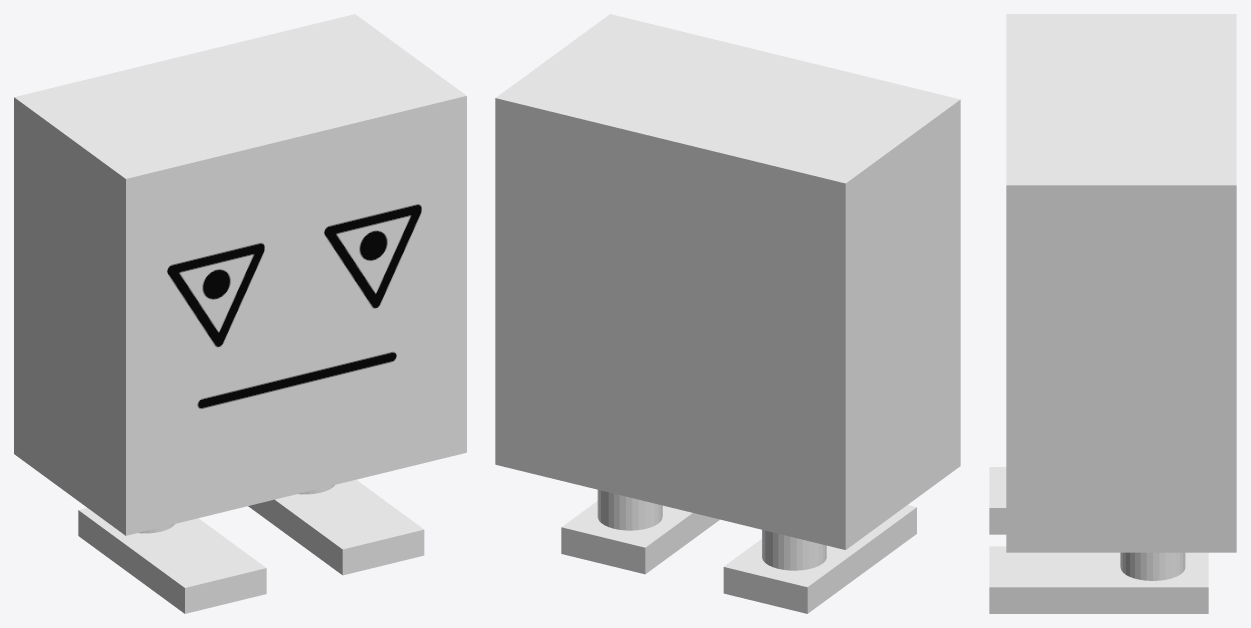
The model's file is wallEnemy.obj.
The picture shows the model from 3 angles, left to right: view 1: azimuth 30°, elevation 25°; view 2: azimuth 150°, elevation 25°; view 3: azimuth 270°, elevation 25°; orthographic projection. The views are drawn at different scales.
Visible parts, largest first — view 1: 立方体, 立方体.002, 立方体.001; view 2: 立方体, 立方体.002, 立方体.001, 円柱, 円柱.001; view 3: 立方体, 立方体.001, 円柱, 立方体.002.
Part boxes in pixels (<box>): 立方体: <box>14,14,466,535</box>; 立方体.002: <box>78,508,266,613</box>; 立方体.001: <box>248,480,424,575</box>; 立方体: <box>495,14,960,549</box>; 立方体.002: <box>723,505,916,613</box>; 立方体.001: <box>561,501,719,574</box>; 円柱: <box>597,490,662,530</box>; 円柱.001: <box>762,530,826,570</box>; 立方体: <box>1006,14,1236,552</box>; 立方体.001: <box>989,546,1208,613</box>; 円柱: <box>1120,552,1185,580</box>; 立方体.002: <box>989,467,1006,534</box>.
Size of the model in its own units: 1.58 by 1.95 by 0.9635.
1 material, 1 textured.
